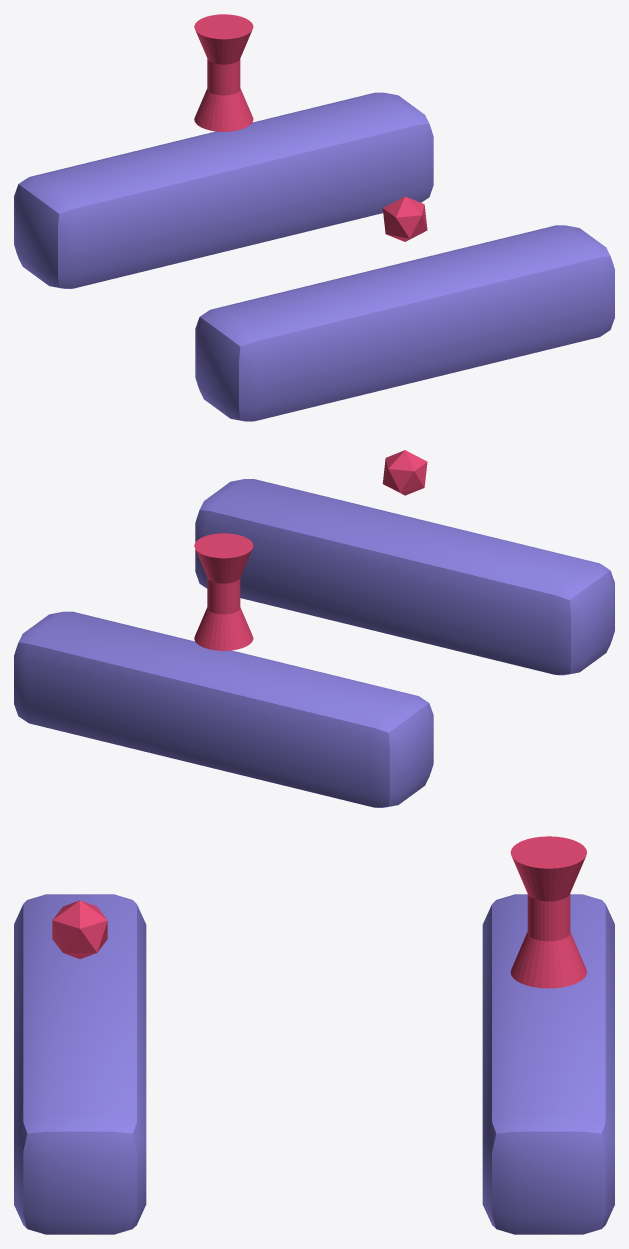
3 views of the same model, one above another, from view 1: azimuth 30°, elevation 25°; view 2: azimuth 150°, elevation 25°; view 3: azimuth 270°, elevation 25° (orthographic). The views are drawn at different scales.
Visible parts, largest first — view 1: Cube, Cube.001, Cylinder, Icosphere; view 2: Cube.001, Cube, Cylinder, Icosphere; view 3: Cube, Cube.001, Cylinder, Icosphere.
Part boxes in pixels (x1,y1,x2,y2): Cube: (195, 225, 614, 421); Cube.001: (14, 92, 433, 288); Cylinder: (194, 14, 253, 131); Icosphere: (382, 196, 427, 241); Cube.001: (14, 611, 433, 807); Cube: (195, 479, 614, 675); Cylinder: (194, 533, 253, 650); Icosphere: (382, 450, 427, 495); Cube: (14, 894, 146, 1234); Cube.001: (482, 894, 614, 1234); Cylinder: (510, 836, 586, 988); Icosphere: (52, 900, 107, 958).
Size of the model in its own units: 4.39 by 2.27 by 4.55.
